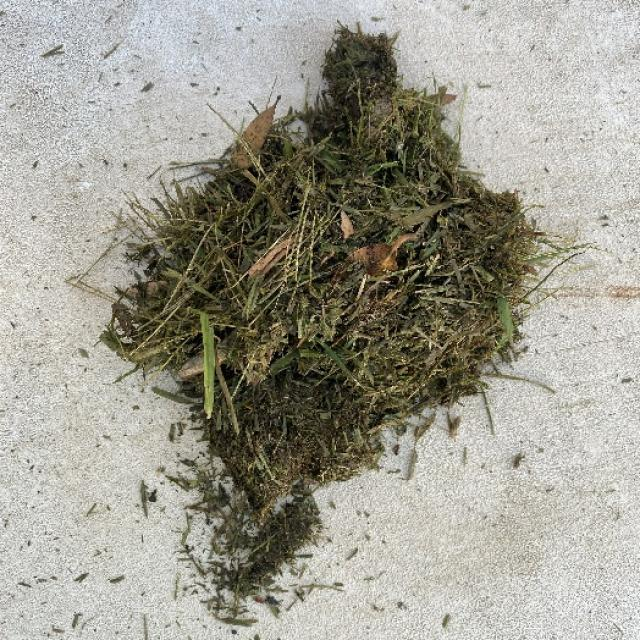organik: (121, 38, 545, 584)
